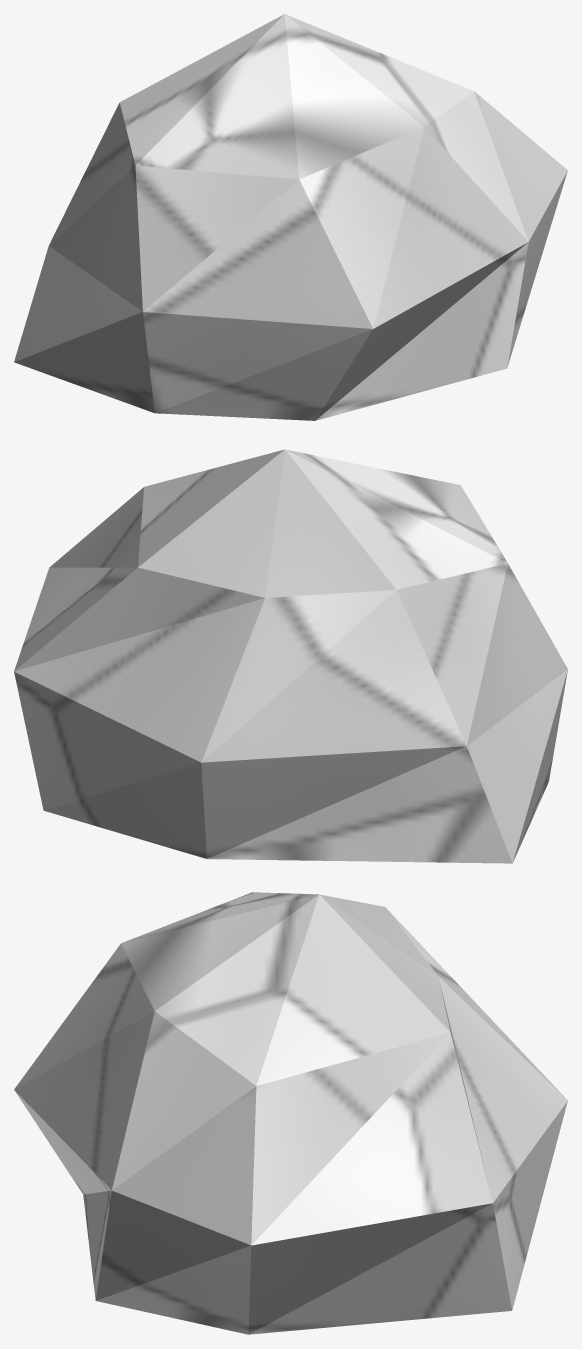
Rendered from boulder_5.obj.
3 renders of one model, top to bottom at view 1: azimuth 30°, elevation 25°; view 2: azimuth 150°, elevation 25°; view 3: azimuth 270°, elevation 25°, orthographic. The views are drawn at different scales.
Parts seen in each view (by area): view 1: boulder_5; view 2: boulder_5; view 3: boulder_5.
Part boxes in pixels (<box>): boulder_5: <box>14,14,567,420</box>; boulder_5: <box>14,449,567,863</box>; boulder_5: <box>14,892,567,1334</box>.
Size of the model in its own units: 0.7545 by 0.4513 by 0.6637.
